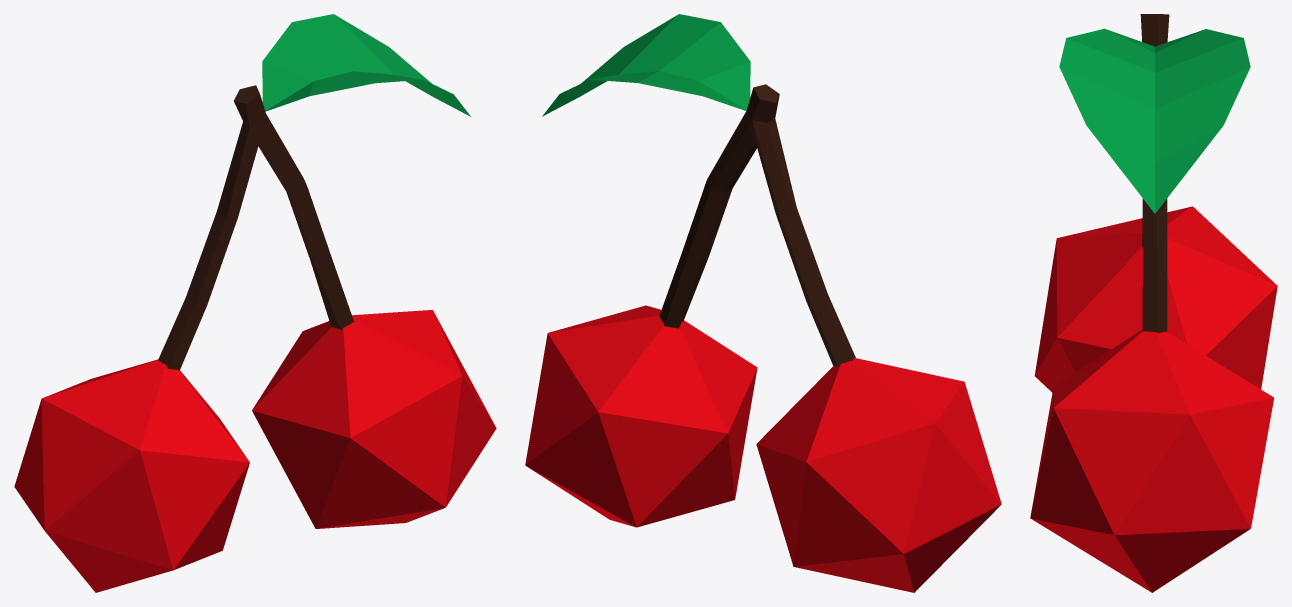
File: cherry.fbx
The picture shows the model from 3 angles, left to right: view 1: azimuth 30°, elevation 25°; view 2: azimuth 150°, elevation 25°; view 3: azimuth 270°, elevation 25°; orthographic projection. The views are drawn at different scales.
Parts seen in each view (by area): view 1: cherry; view 2: cherry; view 3: cherry.
Part boxes in pixels (x1,y1,x2,y2): cherry: (14, 14, 496, 592); cherry: (525, 14, 1001, 592); cherry: (1030, 14, 1277, 592).
Size of the model in its own units: 92.41 by 95.46 by 41.34.
